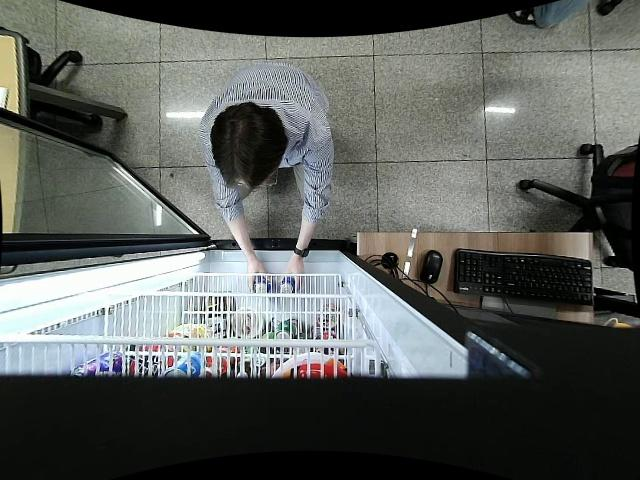00_hand: (245, 258, 275, 295), (280, 260, 304, 294)
